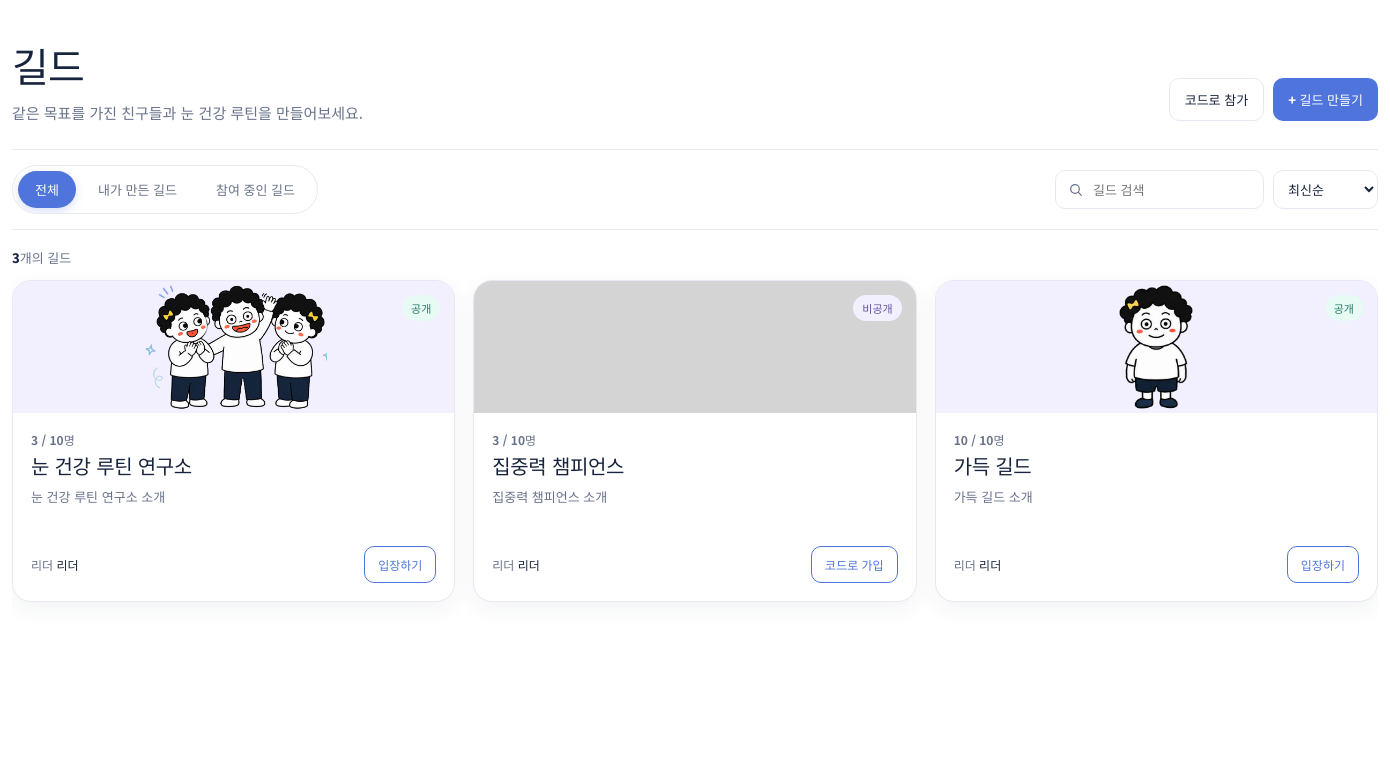
it: CommunityPage › 검색어로 필터링하고 빈 상태를 보여준다
The width and height of the screenshot is (1390, 768).
In the search field with test id "community-search": [1171, 190] box left=1091, top=179, right=1251, bottom=200, type "집중"
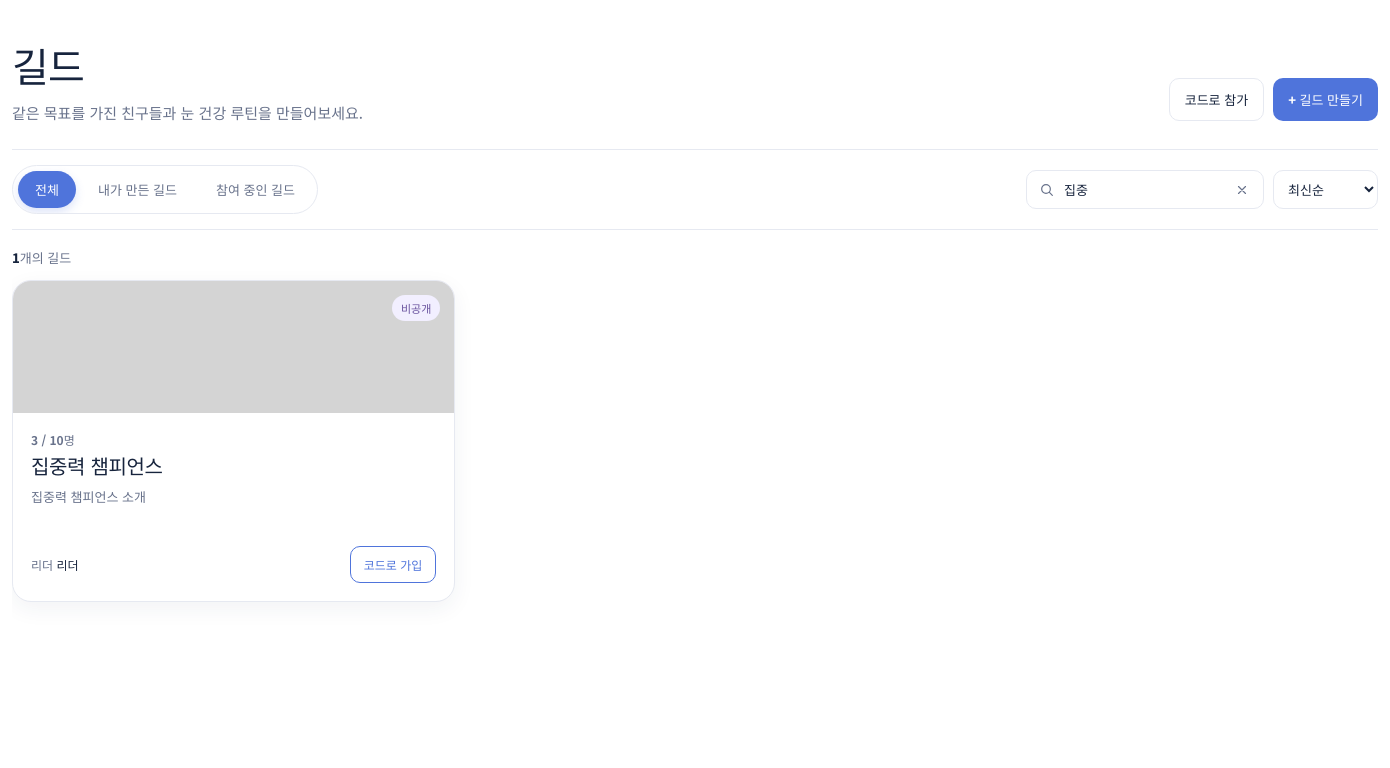
expect the number of elements with class "community-group-card" is 1: met, box left=12, top=280, right=455, bottom=602
Replace the text in the search field with test id "community-search" with "없는길드": [1142, 190] box left=1062, top=179, right=1222, bottom=200
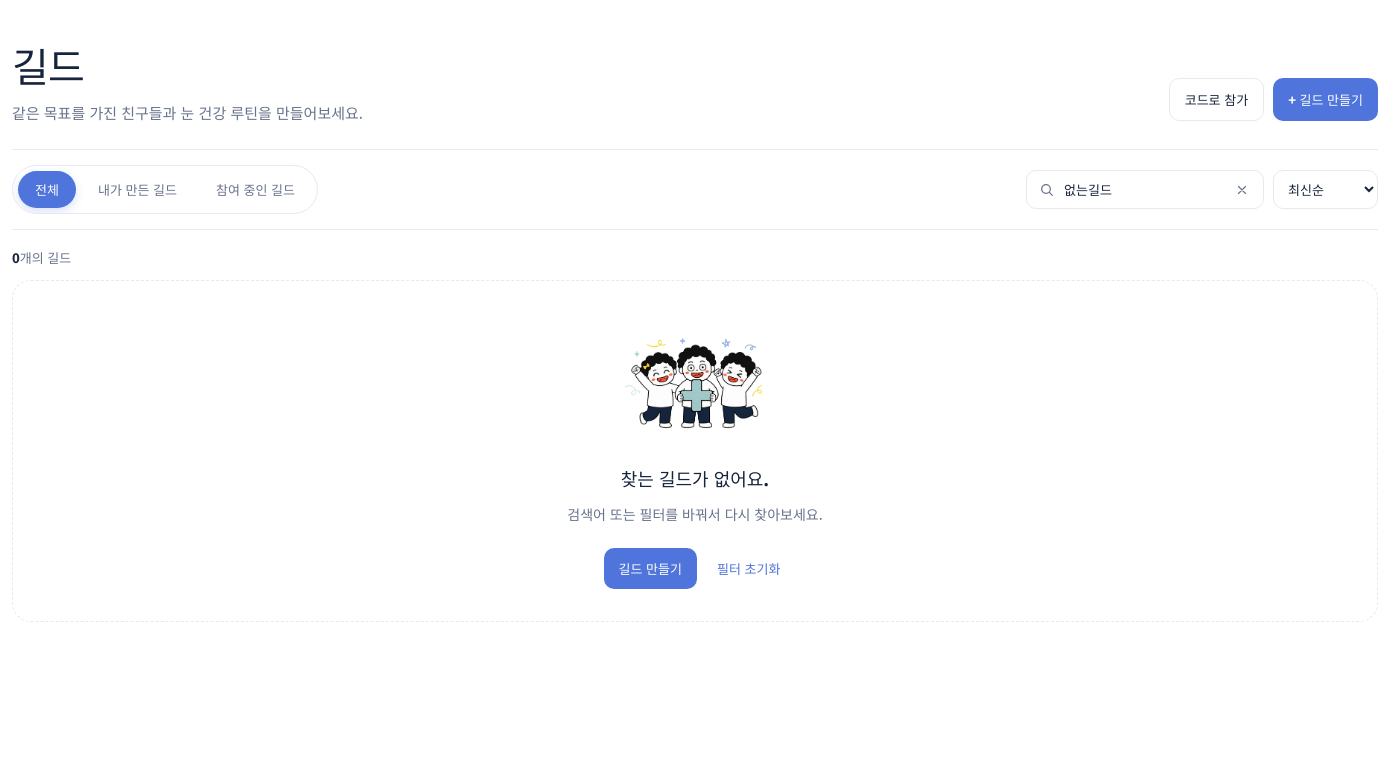
expect the text "찾는 길드가 없어요." is shown: met, box left=621, top=465, right=769, bottom=491
